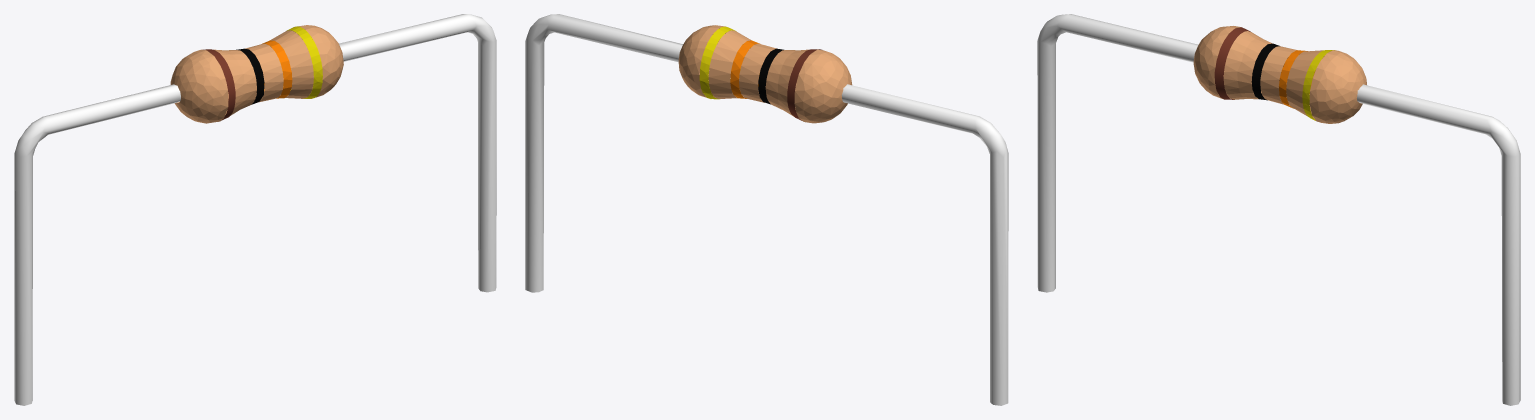
The model's file is resistor10k.fbx.
3 views of the same model, side by side, from view 1: azimuth 30°, elevation 25°; view 2: azimuth 150°, elevation 25°; view 3: azimuth 330°, elevation 25° (orthographic).
Visible parts, largest first — view 1: 10Kohm; view 2: 10Kohm; view 3: 10Kohm.
Part boxes in pixels (<box>): 10Kohm: <box>14,14,496,405</box>; 10Kohm: <box>525,14,1008,405</box>; 10Kohm: <box>1037,14,1520,405</box>.
Size of the model in its own units: 1.79 by 1.08 by 0.2409.
